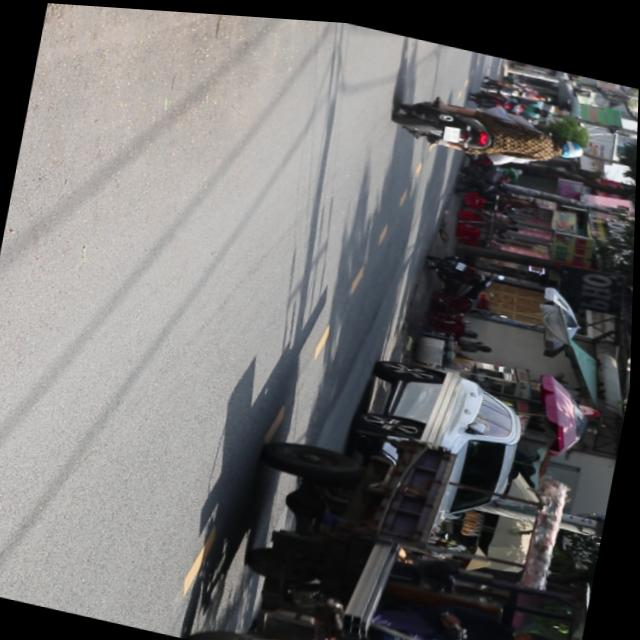helmet: (554, 131, 586, 155)
licenseplate: (390, 83, 592, 176)
nohelmet: (443, 120, 461, 137)
